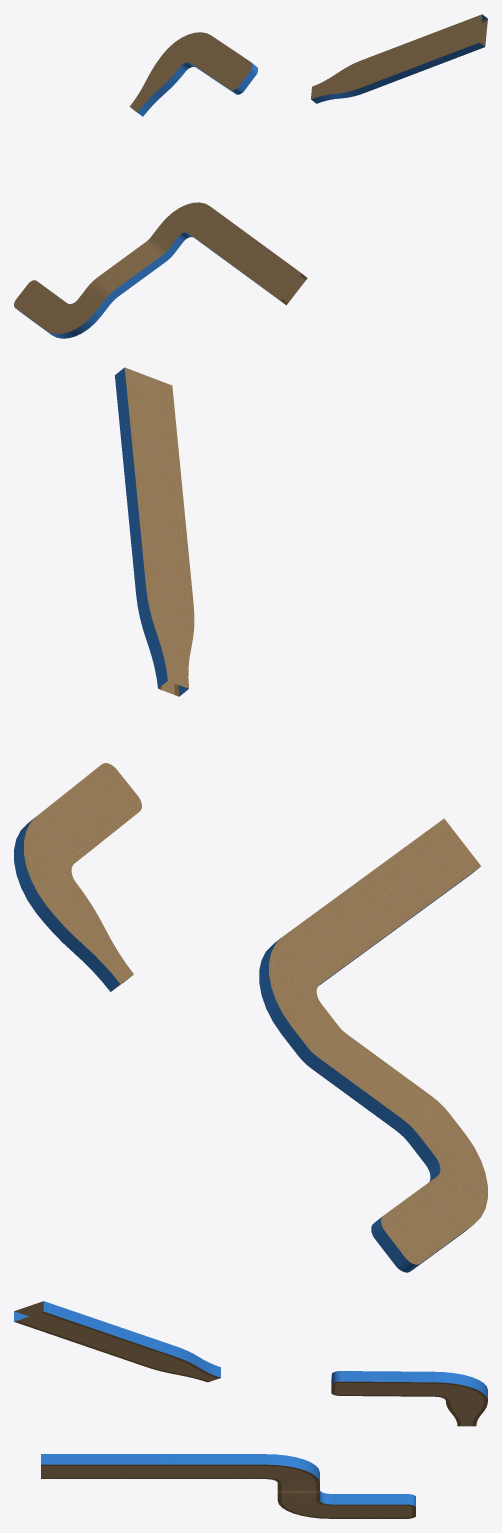
File: ramp_12.FBX
3 renders of one model, top to bottom at view 1: azimuth 30°, elevation 25°; view 2: azimuth 150°, elevation 25°; view 3: azimuth 270°, elevation 25°, orthographic. The views are drawn at different scales.
Parts seen in each view (by area): view 1: ramp_12; view 2: ramp_12; view 3: ramp_12.
Part boxes in pixels (x1,y1,x2,y2): ramp_12: (14,14,487,338); ramp_12: (14,367,487,1272); ramp_12: (14,1301,487,1518).
Size of the model in its own units: 5842 by 5714 by 6084.
